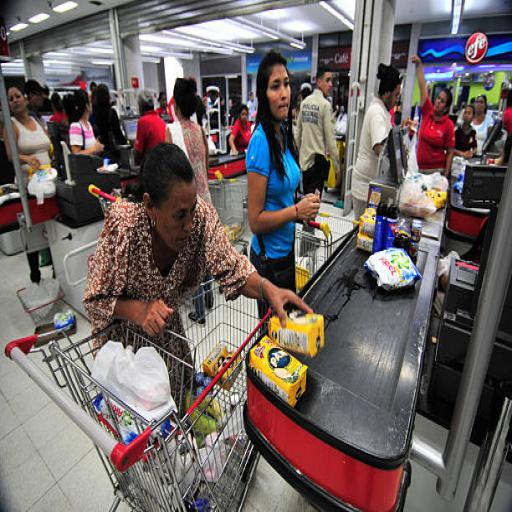shopping_cart: (4, 277, 273, 512), (87, 167, 248, 258), (294, 211, 359, 293)
